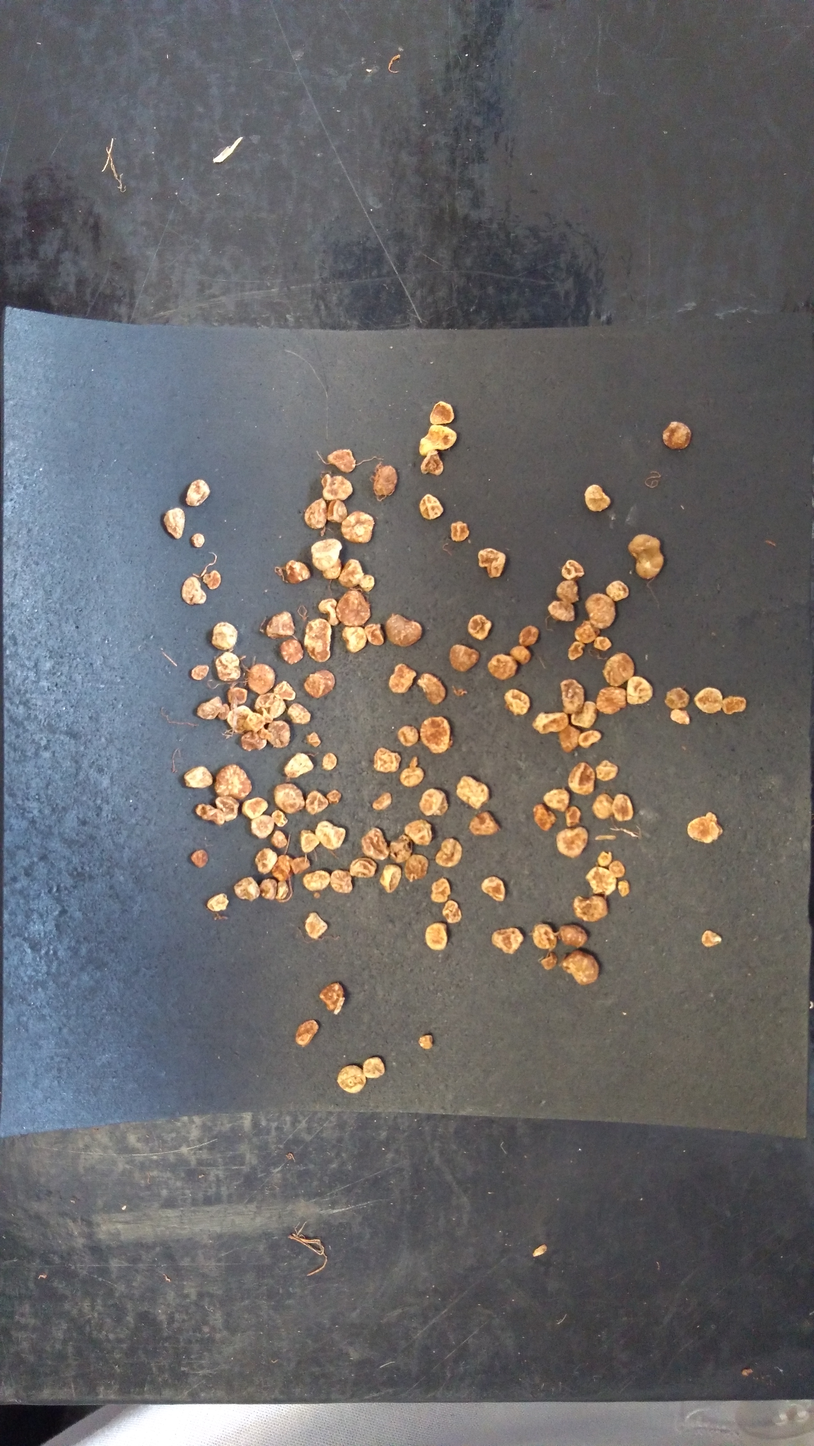nodule: (625, 530, 672, 583), (300, 617, 340, 667), (213, 760, 255, 805), (684, 805, 726, 849), (383, 610, 425, 651), (601, 650, 643, 691), (579, 590, 622, 630), (560, 948, 603, 988), (419, 715, 457, 759), (333, 588, 373, 629), (338, 508, 380, 546), (455, 772, 494, 811), (332, 1061, 369, 1100), (592, 681, 632, 717), (555, 675, 591, 715), (416, 423, 459, 456), (302, 666, 341, 702), (486, 922, 525, 958), (554, 824, 592, 860), (444, 641, 483, 676), (371, 461, 404, 502), (659, 418, 696, 454), (562, 757, 597, 795), (473, 547, 513, 580), (272, 779, 308, 815), (308, 536, 344, 572), (313, 979, 348, 1016), (431, 835, 469, 869), (314, 817, 348, 855), (400, 814, 435, 850), (623, 674, 659, 709), (385, 659, 419, 695), (417, 786, 454, 819), (572, 893, 610, 925), (414, 671, 449, 705), (384, 832, 419, 866), (584, 866, 619, 900), (583, 479, 616, 515), (179, 762, 215, 795), (468, 808, 505, 840), (419, 919, 452, 954), (208, 616, 240, 652), (324, 444, 360, 476), (320, 472, 356, 504), (415, 488, 448, 522), (464, 610, 497, 644), (499, 687, 534, 719), (263, 607, 298, 639), (360, 823, 390, 860), (179, 574, 209, 611), (530, 708, 571, 735), (542, 598, 580, 627), (485, 652, 519, 684), (246, 660, 277, 695), (569, 698, 601, 731), (692, 682, 723, 716), (336, 557, 367, 591), (213, 649, 243, 684), (254, 691, 289, 721), (184, 474, 214, 509), (414, 449, 450, 478), (302, 496, 329, 534), (478, 873, 510, 905), (264, 718, 295, 751), (282, 750, 314, 781), (359, 1052, 390, 1084), (372, 742, 401, 776), (302, 908, 331, 942), (193, 800, 227, 829), (557, 922, 591, 951), (557, 555, 592, 583), (378, 860, 405, 896), (399, 754, 425, 791), (278, 637, 311, 666), (550, 578, 584, 606), (162, 507, 187, 545), (601, 576, 632, 606), (230, 873, 261, 903), (329, 866, 358, 898), (293, 1017, 321, 1050), (609, 789, 635, 824), (340, 624, 370, 654), (213, 792, 242, 823), (239, 793, 270, 822), (592, 755, 623, 784), (588, 791, 617, 822), (224, 704, 253, 735), (403, 851, 431, 883), (252, 844, 280, 876), (540, 787, 572, 815), (426, 398, 457, 426), (349, 853, 380, 881), (286, 701, 316, 729), (530, 922, 558, 952), (555, 723, 583, 753), (191, 695, 223, 721), (719, 692, 752, 717), (283, 558, 312, 586), (304, 786, 331, 816), (269, 852, 295, 883), (531, 802, 557, 833), (572, 617, 604, 642), (325, 495, 349, 528), (248, 812, 275, 841), (371, 788, 397, 818), (301, 868, 333, 892), (448, 518, 475, 546), (429, 875, 454, 905), (515, 622, 541, 650), (268, 677, 298, 701), (238, 729, 269, 752), (395, 723, 420, 751), (299, 826, 324, 854), (698, 927, 726, 952), (662, 685, 691, 709), (319, 556, 345, 582), (441, 897, 464, 925), (363, 621, 386, 649), (317, 749, 341, 775), (205, 892, 231, 916), (187, 848, 214, 871), (665, 706, 694, 727), (561, 804, 585, 829), (257, 877, 279, 904), (578, 727, 605, 749), (201, 567, 224, 592), (564, 639, 590, 661), (223, 685, 249, 707), (508, 644, 535, 665), (242, 709, 266, 732), (590, 632, 615, 653), (325, 785, 346, 810), (270, 826, 290, 852), (188, 528, 208, 553), (290, 854, 313, 875), (595, 849, 617, 870), (358, 573, 380, 594), (607, 859, 630, 879), (189, 662, 210, 683), (272, 877, 289, 902), (304, 730, 325, 750), (416, 1030, 436, 1051), (539, 951, 559, 971), (270, 809, 289, 829), (615, 877, 632, 899), (216, 702, 230, 723)
